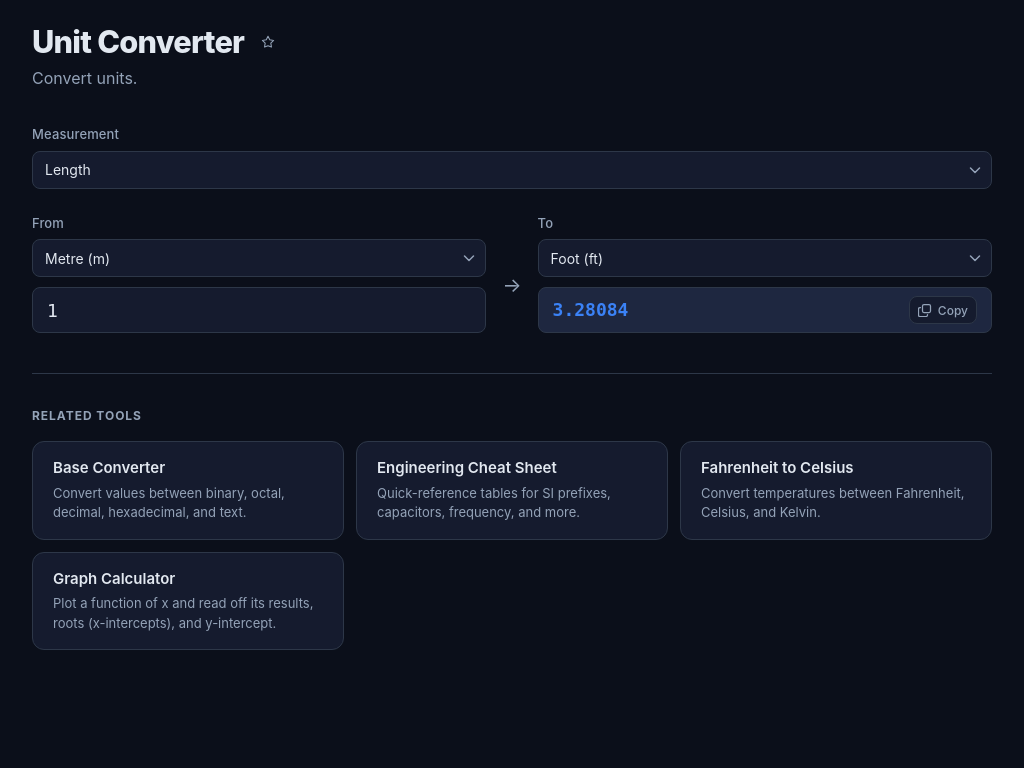
Test: UnitConverter › updates the result when the value changes
Replace the text in the number field named "Value to convert" with "2" at (259, 310), box [32, 287, 486, 333]
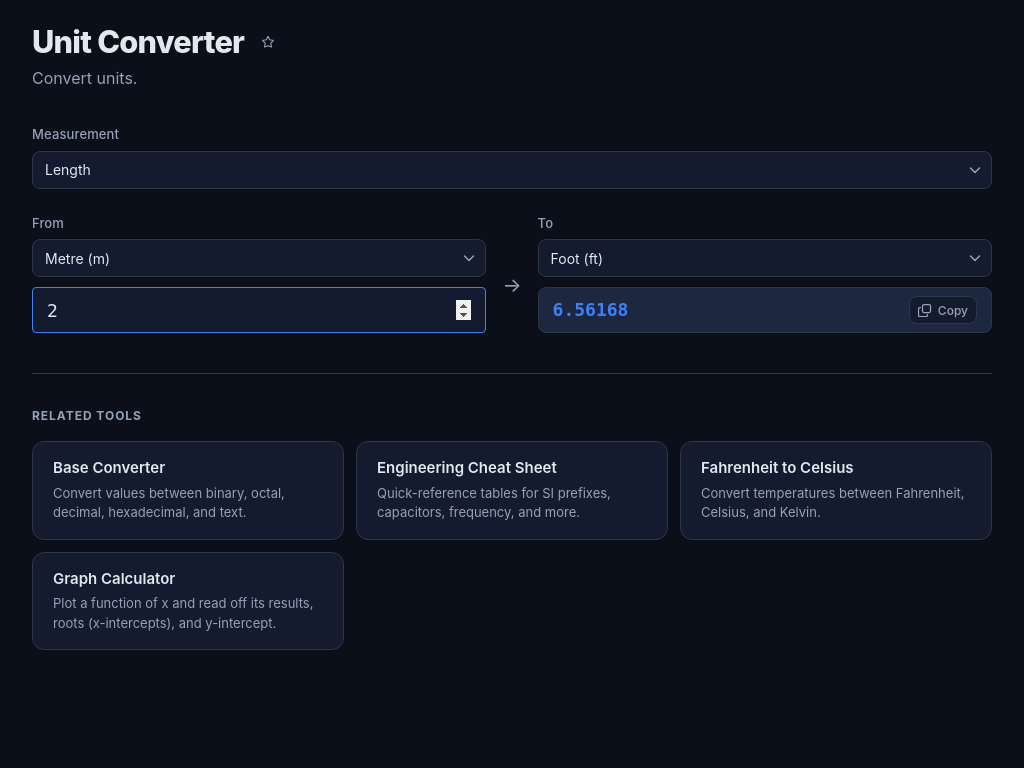
Expected: the text "6.56168" is shown, [552, 296, 628, 325]
